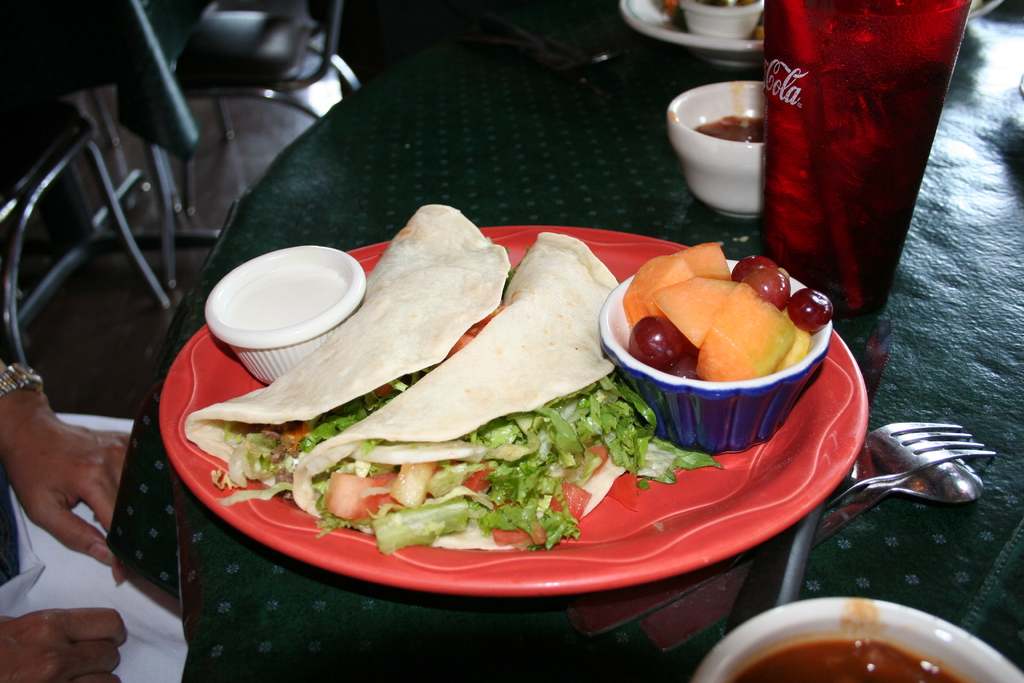taco: (175, 201, 522, 506)
